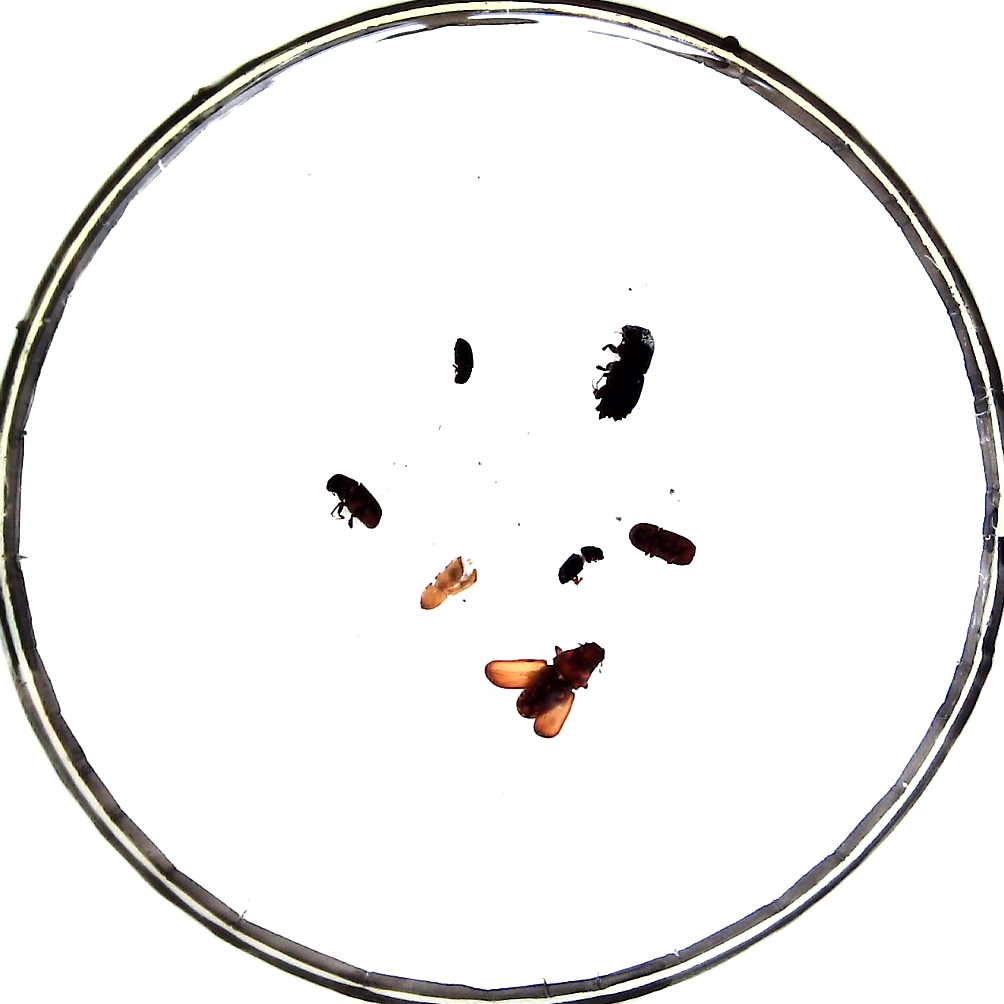Boerner: (595, 325, 654, 421)
Leconte: (516, 641, 604, 718)
acuminatus: (453, 337, 473, 384)
armandi: (325, 472, 381, 528), (557, 545, 603, 584)
coleoptera: (420, 556, 477, 610)
linnaeus: (629, 523, 696, 565)
